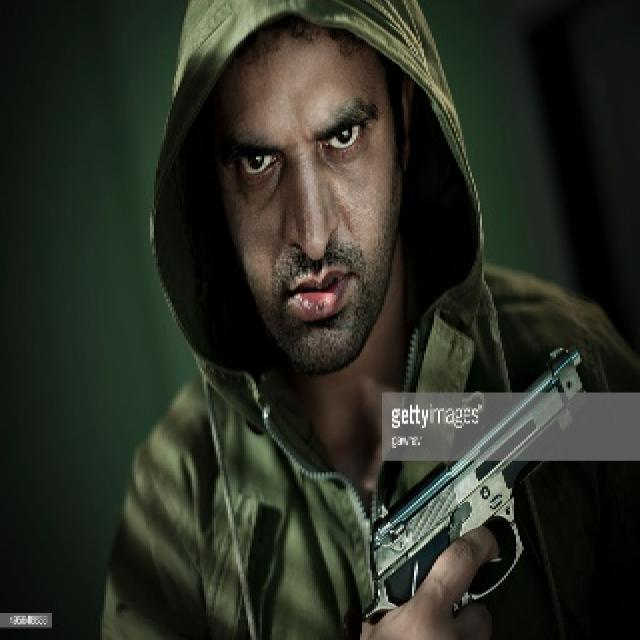handgun: (365, 348, 587, 624)
